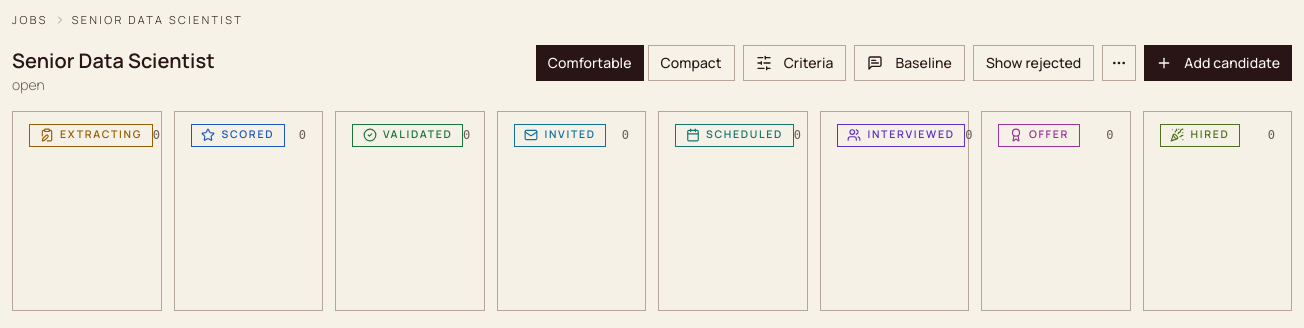
JobDetail write controls — job actions menu › offers Close job to a recruiter via the Manage menu
Expected: the heading "Senior Data Scientist" is shown, [12,46,215,74]
Click the button named "manage job". click: (1119,62)
box: [1102,44,1136,80]
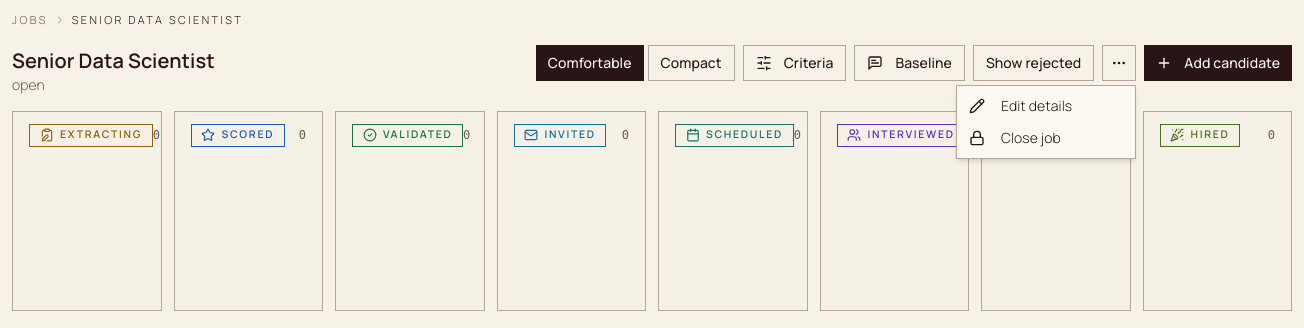
Now the menu item "Close job" is shown, box [969,128,1061,147]
Now the menu item "Edit details" is shown, box [969,96,1072,115]
